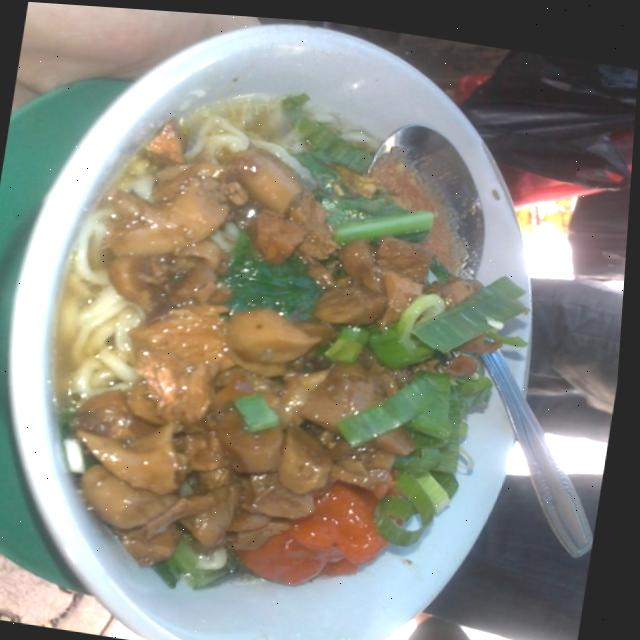面条主食: (0, 41, 566, 638)
